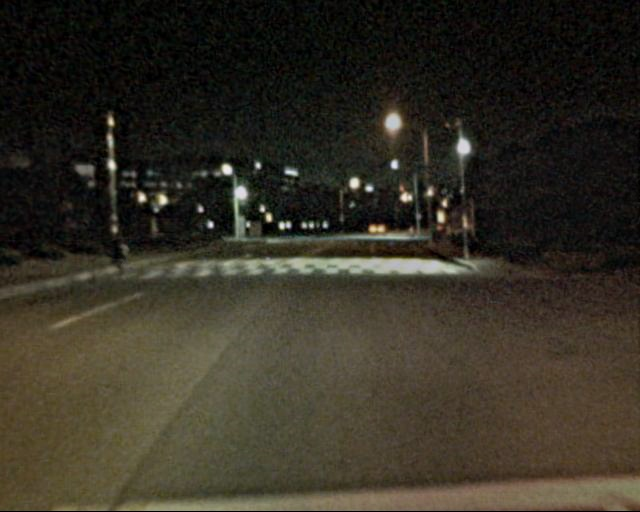person: (108, 231, 132, 282)
